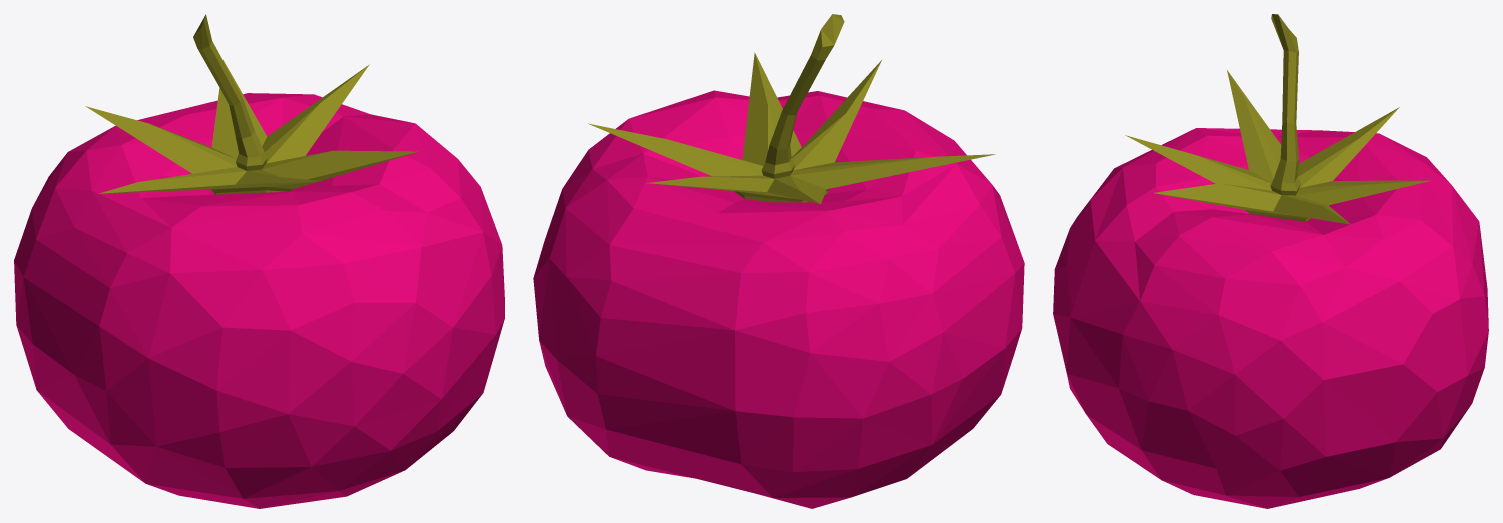
The model's file is Tomato.glb.
3 views of the same model, side by side, from view 1: azimuth 30°, elevation 25°; view 2: azimuth 150°, elevation 25°; view 3: azimuth 270°, elevation 25° (orthographic). The views are drawn at different scales.
Visible parts, largest first — view 1: Tomato; view 2: Tomato; view 3: Tomato.
Boxes of the visible parts, x1,y1,x2,y2 form: Tomato: (14,14,504,508); Tomato: (533,14,1024,508); Tomato: (1053,14,1488,508).
Size of the model in its own units: 1.97 by 2.03 by 1.93.
